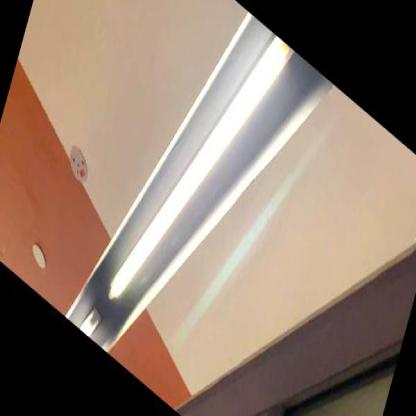light_on: (62, 0, 295, 394), (77, 304, 107, 347)
